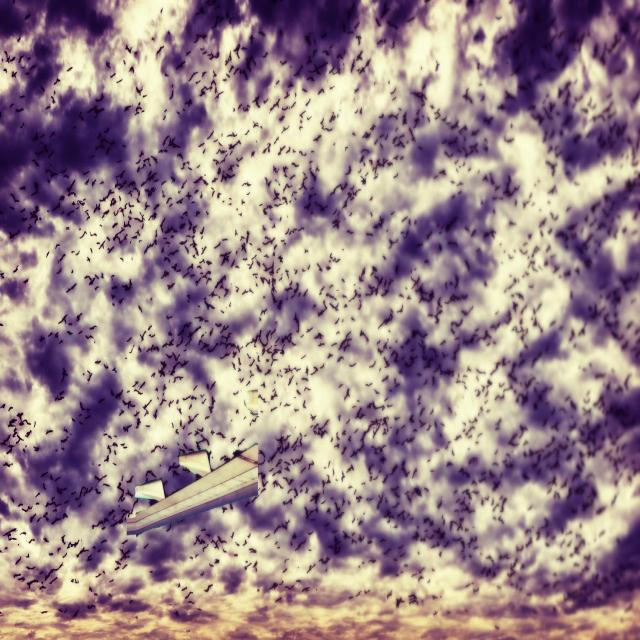airplane: (125, 442, 259, 537)
